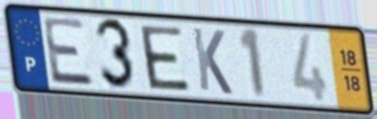1: (238, 26, 267, 102)
3: (92, 16, 138, 93)
4: (290, 31, 330, 106)
E: (40, 15, 97, 89), (137, 24, 193, 94)
K: (189, 25, 235, 98)
